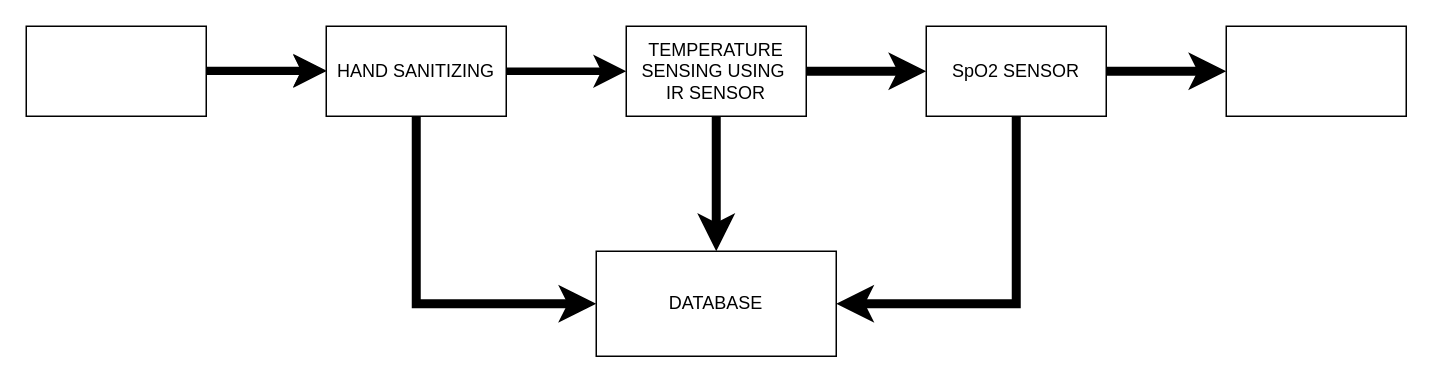
Image size: 1433x383. Some labels were removed from this diagram. Each missing label, with the box of its shape:
QR CODE SCANNING: (25, 25, 206, 116)
UV SANITIZATION AFTER PERSON EXITS: (1225, 25, 1406, 116)
